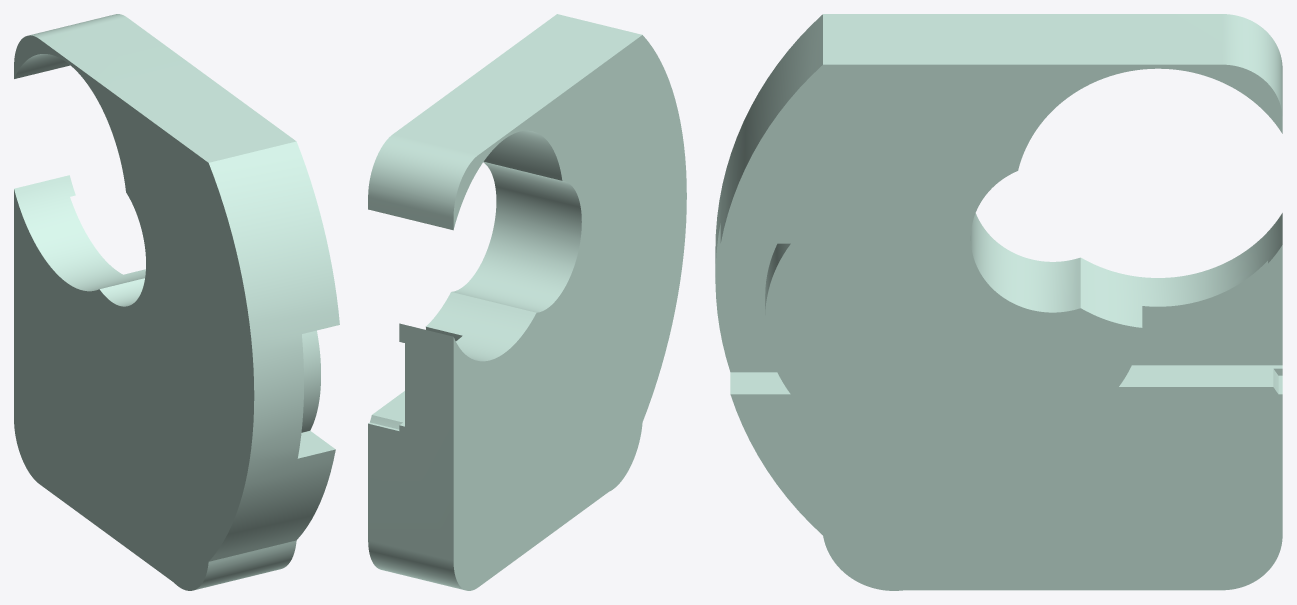
3 renders of one model, left to right at view 1: azimuth 30°, elevation 25°; view 2: azimuth 150°, elevation 25°; view 3: azimuth 270°, elevation 25°, orthographic. The views are drawn at different scales.
Parts seen in each view (by area): view 1: Renderer Node; view 2: Renderer Node; view 3: Renderer Node.
Boxes of the visible parts, left/top/right/bottom form: Renderer Node: left=14, top=14, right=339, bottom=590; Renderer Node: left=368, top=14, right=686, bottom=590; Renderer Node: left=715, top=14, right=1282, bottom=590.
Size of the model in its own units: 0.2344 by 1.13 by 1.11.
